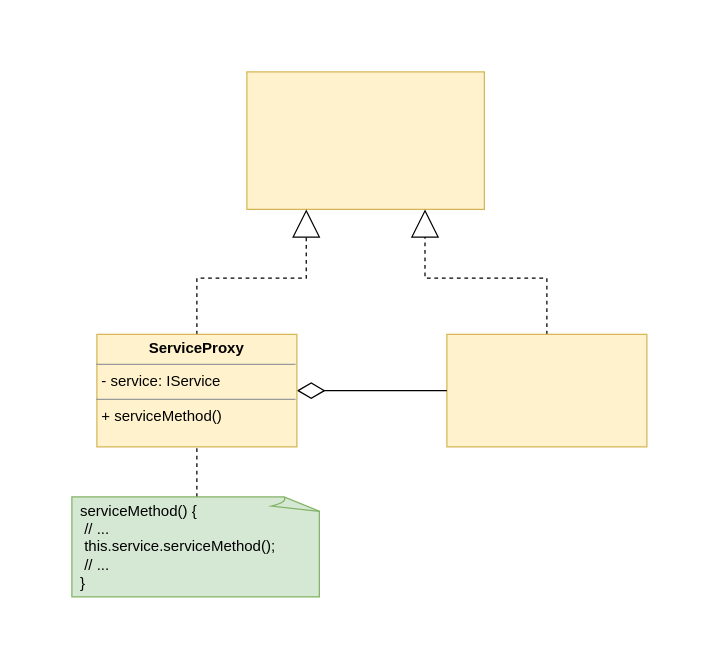
This 718x668 diagram has some shape labels left out. The shapes that lost their labels are listed below. From the top down, each one's centre as x and y in pixels, then its label:
At (x=365, y=140): "<<Interface>> IService + serviceMethod()".
At (x=546, y=390): "Service + serviceMethod()".
